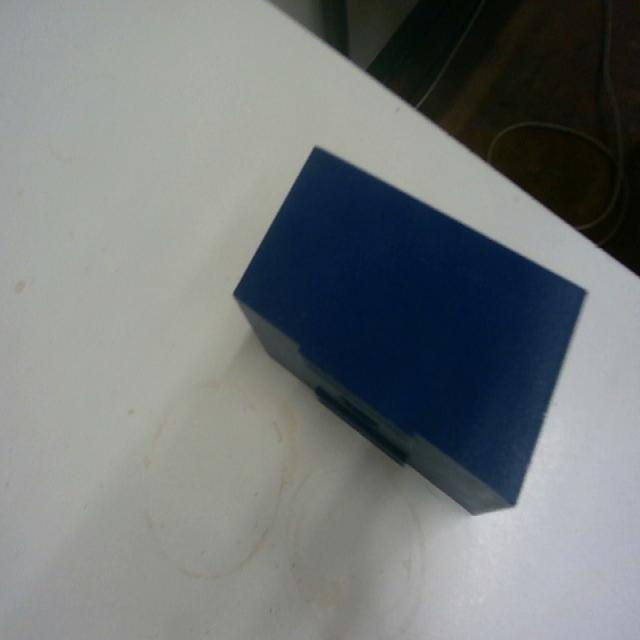Blue Cuboid: (231, 142, 589, 518)
